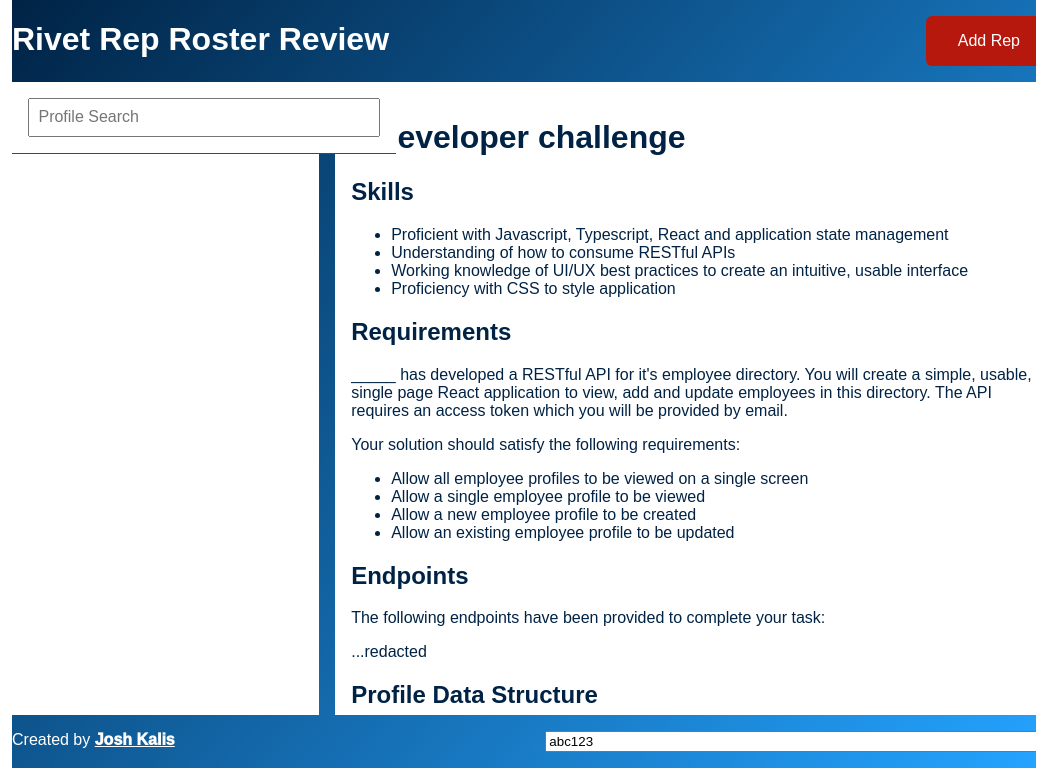
Test case: click Add Rep
Expected: the heading "...developer challenge" is shown, [351,119,686,155]
Click the link "Add Rep" at (981, 41), box [926,16,1036,66]
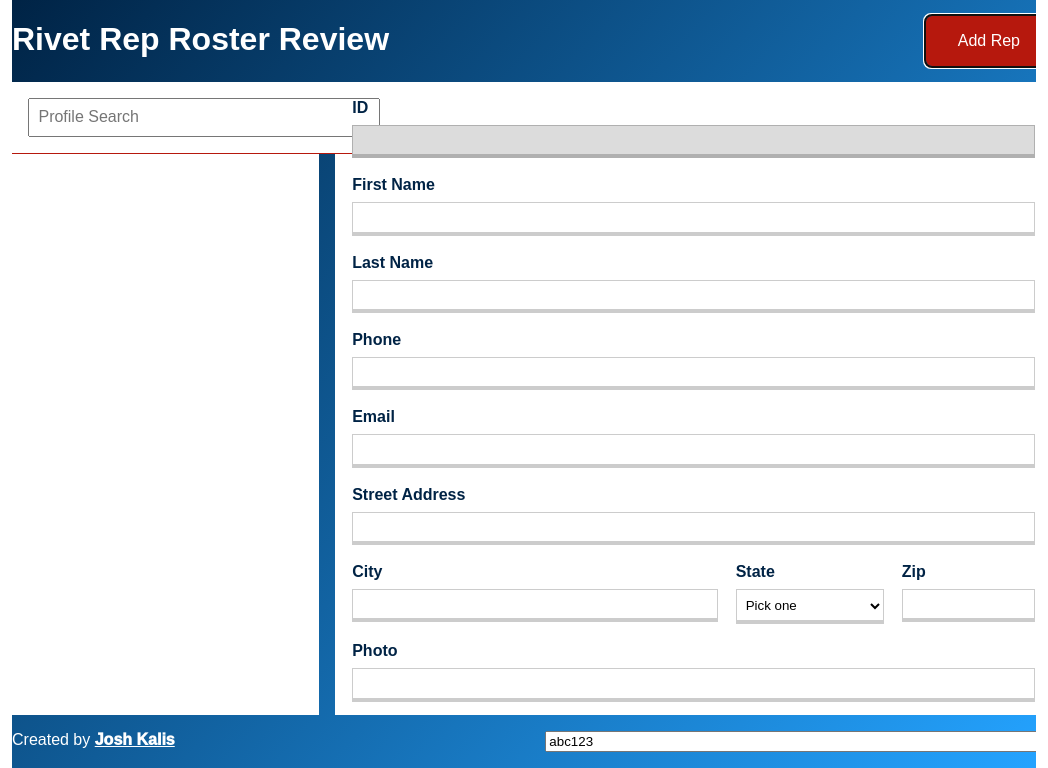
Expected: the heading "...developer challenge" is gone
